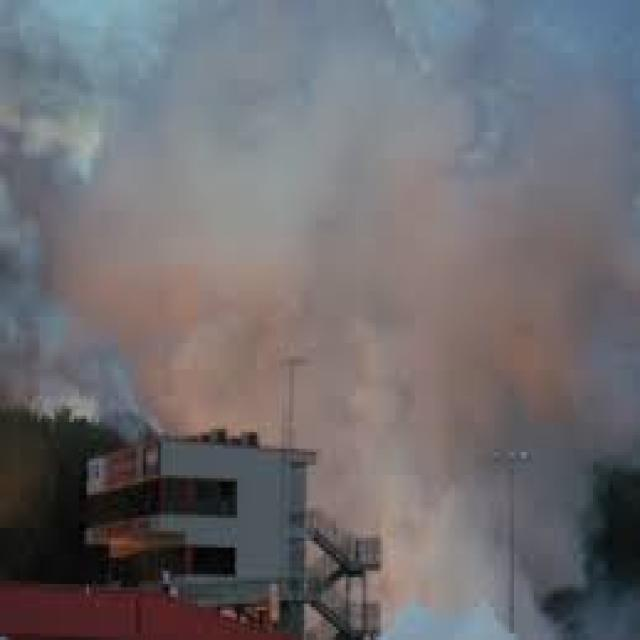Smoke: (281, 132, 460, 533), (41, 114, 268, 419), (446, 121, 640, 404), (375, 410, 508, 604)
